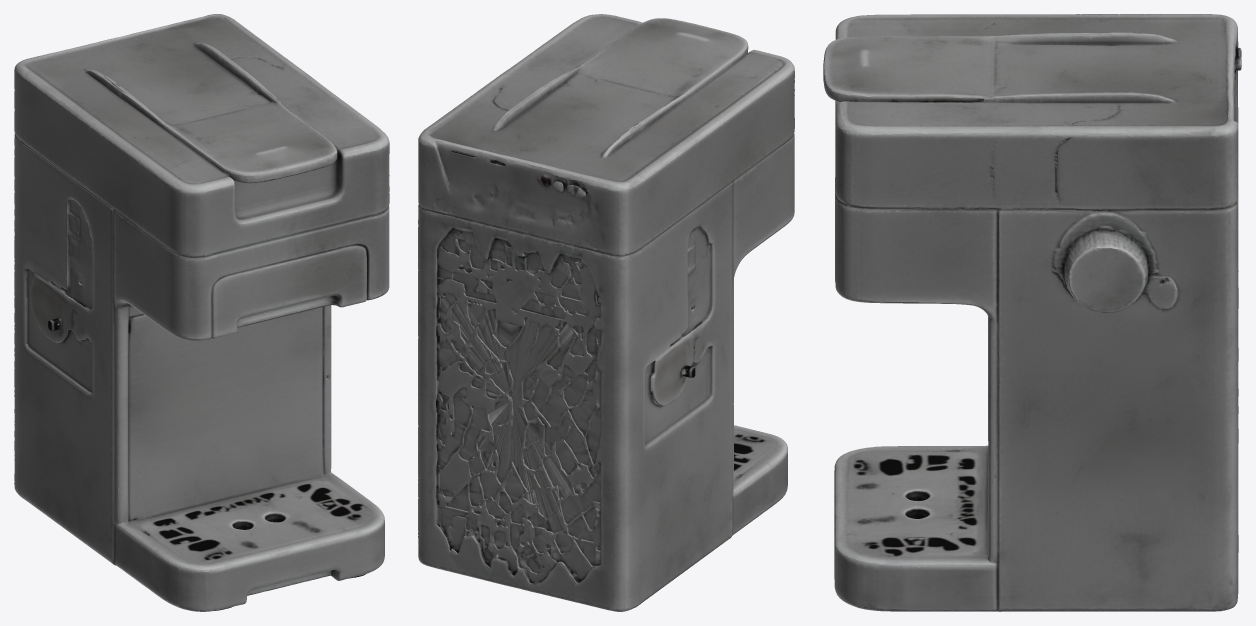
The model's file is espresso-g1turbo.glb.
3 views of the same model, side by side, from view 1: azimuth 30°, elevation 25°; view 2: azimuth 150°, elevation 25°; view 3: azimuth 270°, elevation 25° (orthographic). The views are drawn at different scales.
Visible parts, largest first — view 1: world; view 2: world; view 3: world.
Part boxes in pixels (<box>): world: <box>14,14,389,611</box>; world: <box>418,14,794,611</box>; world: <box>823,14,1241,611</box>.
Bounding box in the file's own units: 0.35 × 0.5876 × 0.4504.
1 material, 1 textured.
